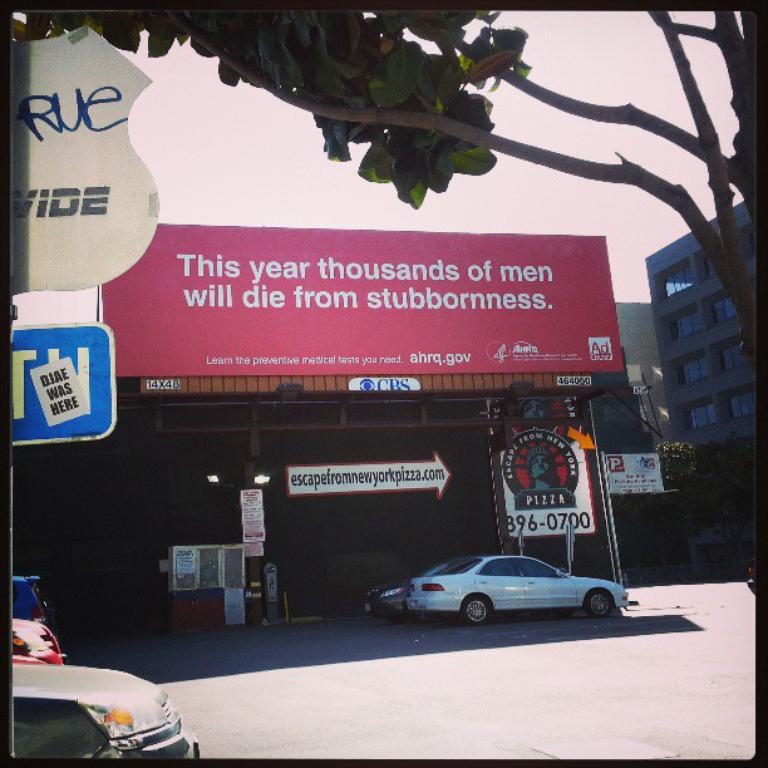Car: (10, 647, 217, 766), (368, 549, 641, 631), (7, 607, 58, 662)
